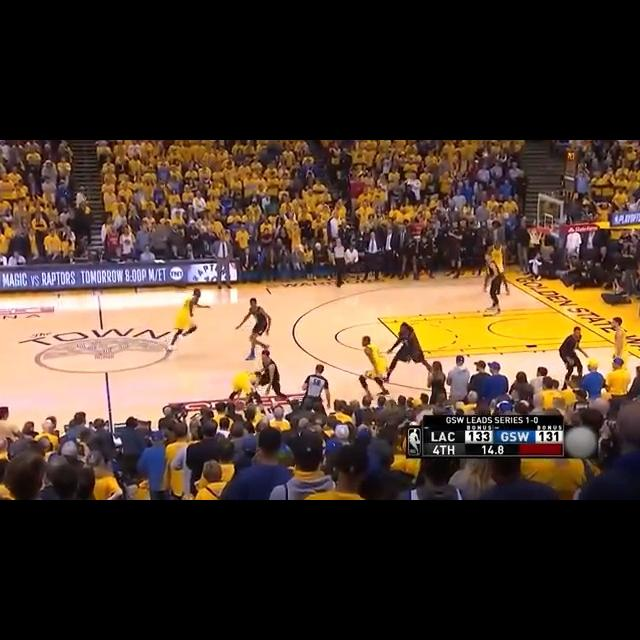hoop: (524, 224, 547, 245)
